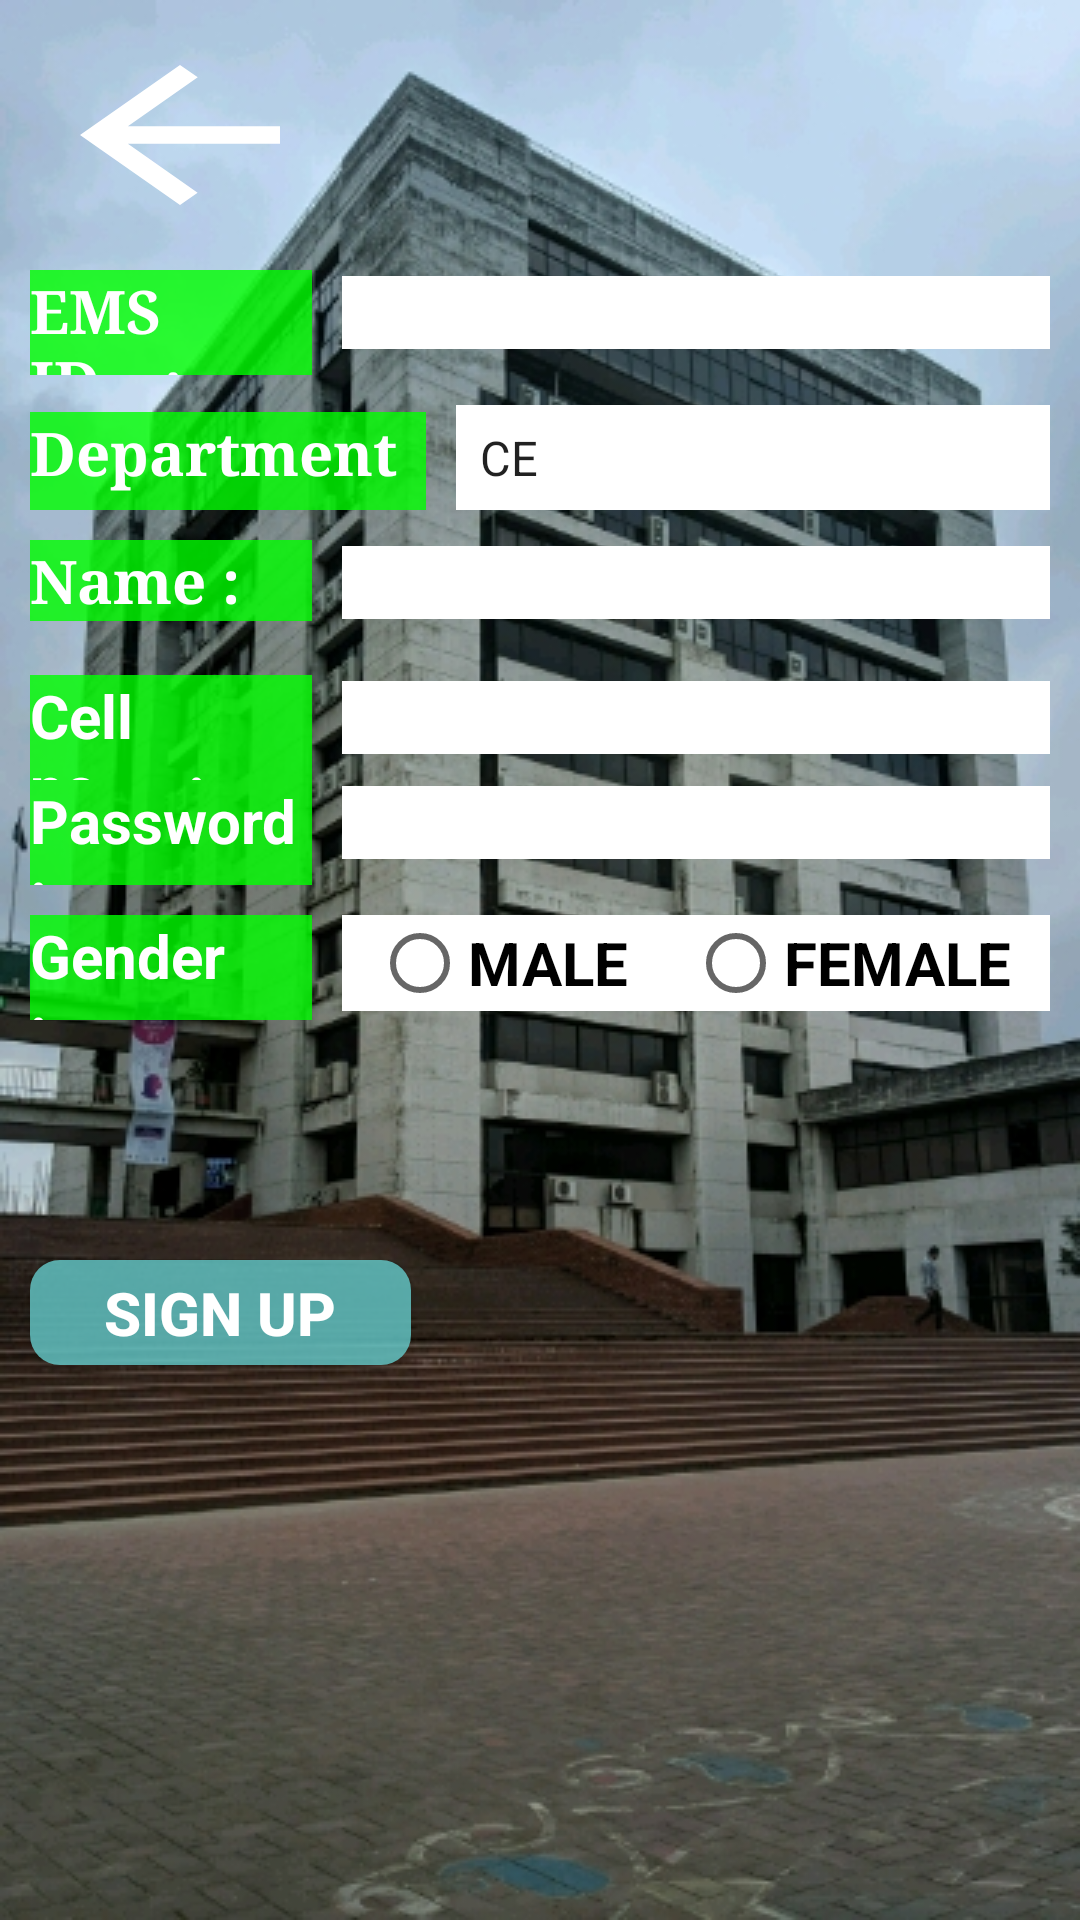

Locate icon controls on the screen. Image size 1080px×1920px, boxes as box(x1, y1, x2, y2).
arrow: box(80, 65, 329, 233)
